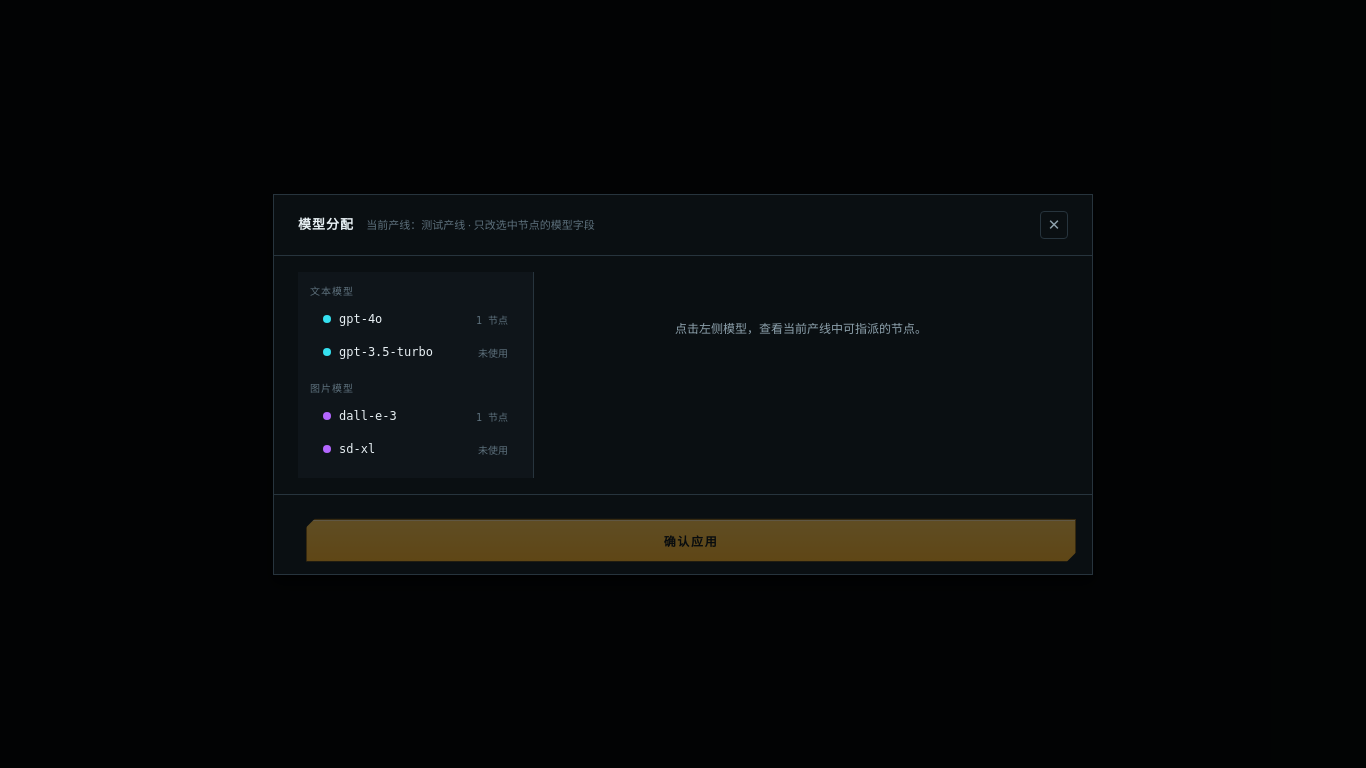
Scenario: ModelAssignModal › 选择模型 › 点击模型后显示候选节点列表
The width and height of the screenshot is (1366, 768).
expect the text "文本模型" is shown: met, box [310,286,354,296]
Click the text "gpt-3.5-turbo": click(386, 352) [339,345,433,359]
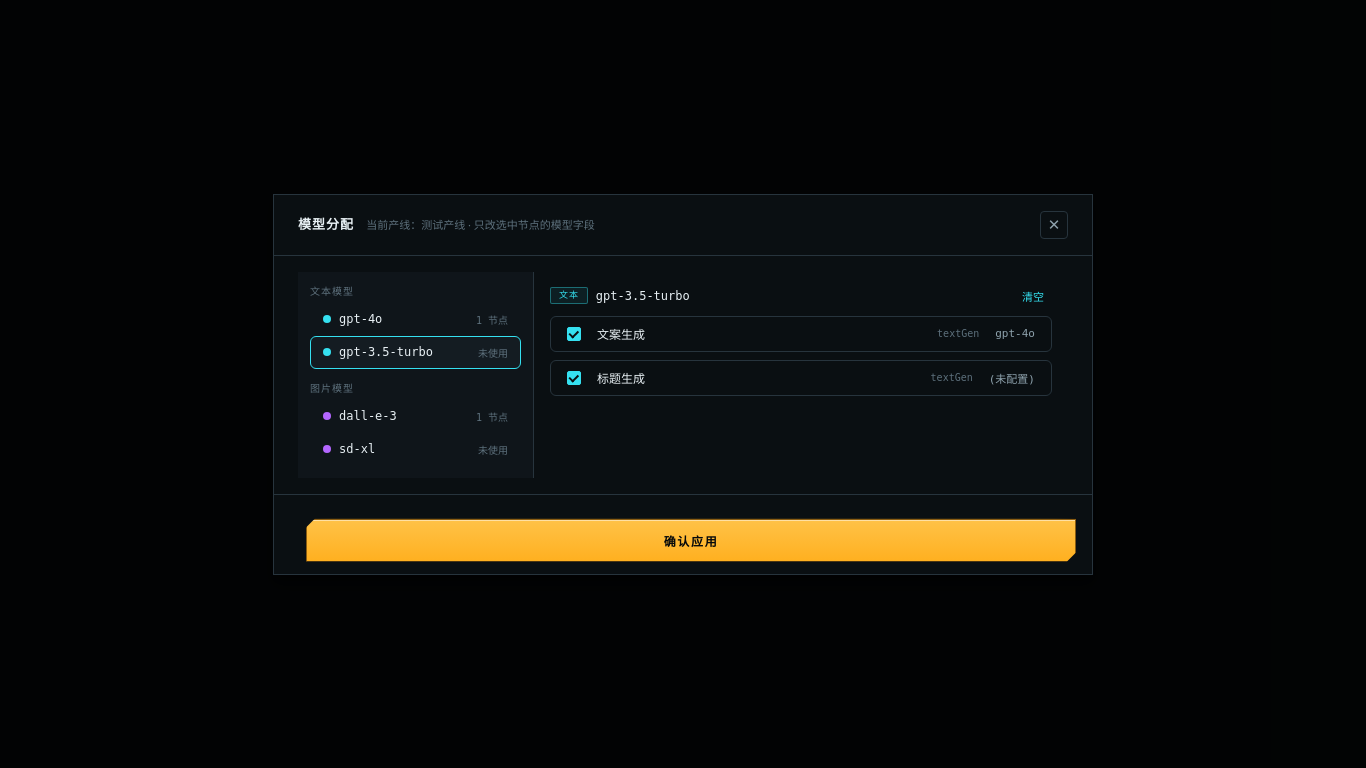
expect the text "文案生成" is shown: met, box [597,326,645,342]
expect the text "标题生成" is shown: met, box [597,370,645,386]
